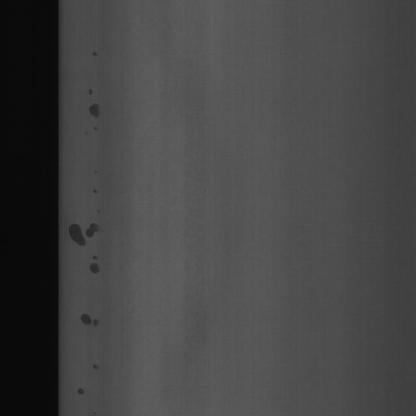oil_spot: (74, 356, 97, 400), (68, 217, 100, 246), (84, 89, 104, 124), (85, 250, 104, 272), (80, 308, 96, 332)
